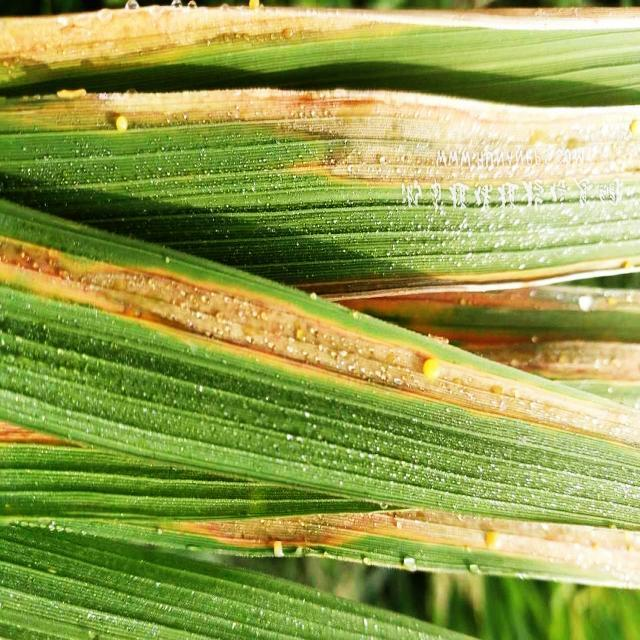whorl-maggot: (480, 510, 510, 570), (418, 345, 448, 390), (110, 107, 141, 149)
